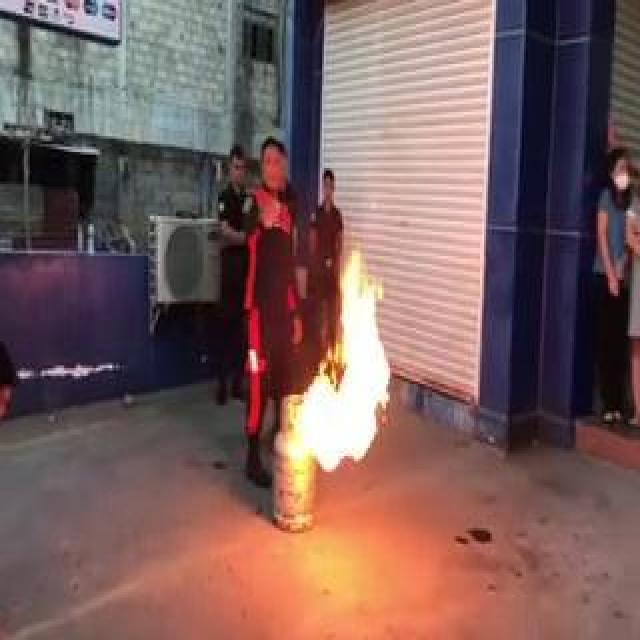Smoke: (288, 246, 392, 470)
